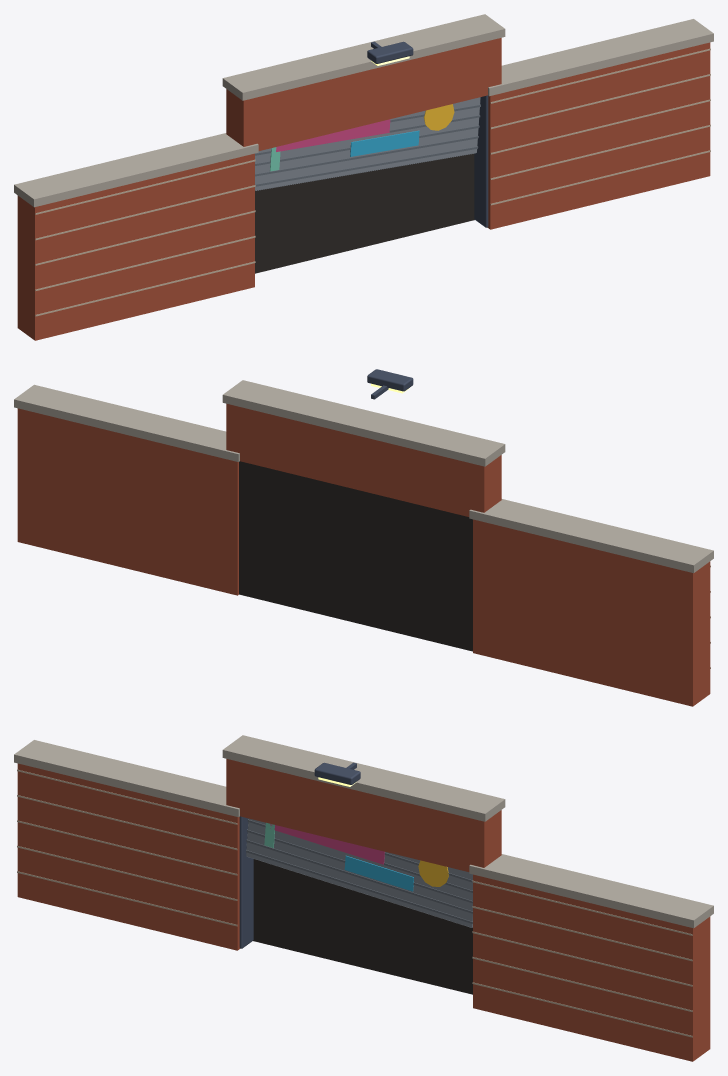
The model's file is welt_rolltor.glb.
3 renders of one model, top to bottom at view 1: azimuth 30°, elevation 25°; view 2: azimuth 150°, elevation 25°; view 3: azimuth 330°, elevation 25°, orthographic.
Parts seen in each view (by area): view 1: welt_rolltor; view 2: welt_rolltor; view 3: welt_rolltor.
Part boxes in pixels (x1,y1,x2,y2): welt_rolltor: (14, 14, 713, 340); welt_rolltor: (14, 369, 713, 706); welt_rolltor: (14, 735, 713, 1061).
Size of the model in its own units: 8.96 by 2.8 by 0.94.
